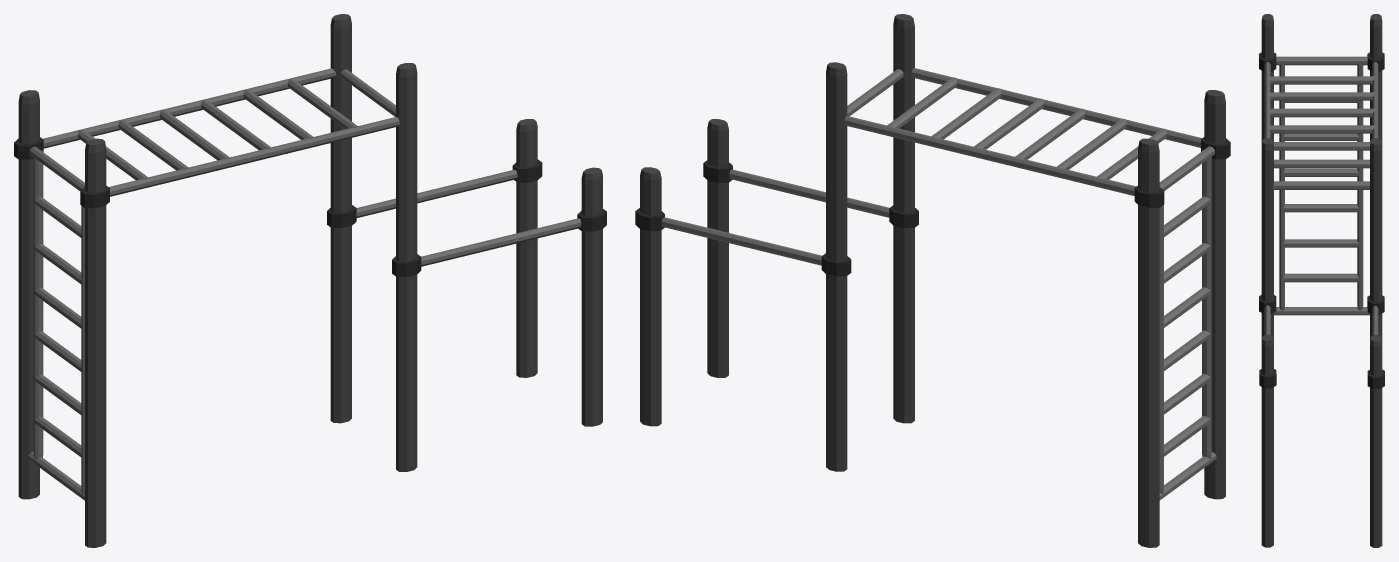
File: SM_Props_Gym_03.fbx
3 renders of one model, left to right at view 1: azimuth 30°, elevation 25°; view 2: azimuth 150°, elevation 25°; view 3: azimuth 270°, elevation 25°, orthographic. The views are drawn at different scales.
Parts seen in each view (by area): view 1: SM_Props_Gym_03; view 2: SM_Props_Gym_03; view 3: SM_Props_Gym_03.
Boxes of the visible parts, x1=… form: SM_Props_Gym_03: x1=14, y1=14, x2=606, y2=547; SM_Props_Gym_03: x1=635, y1=14, x2=1230, y2=547; SM_Props_Gym_03: x1=1259, y1=14, x2=1384, y2=547.
Size of the model in its own units: 3.28 by 2.41 by 0.8349.
